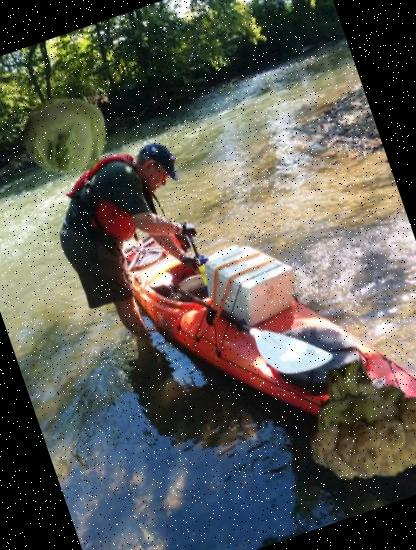Cauliflower: (288, 335, 416, 505)
Kohlrabi: (10, 80, 119, 190)
